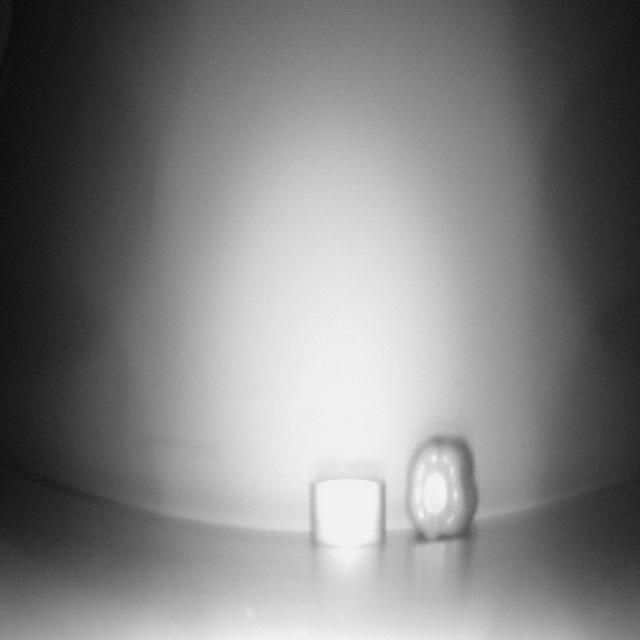targets: (404, 431, 480, 542), (308, 474, 388, 552)
